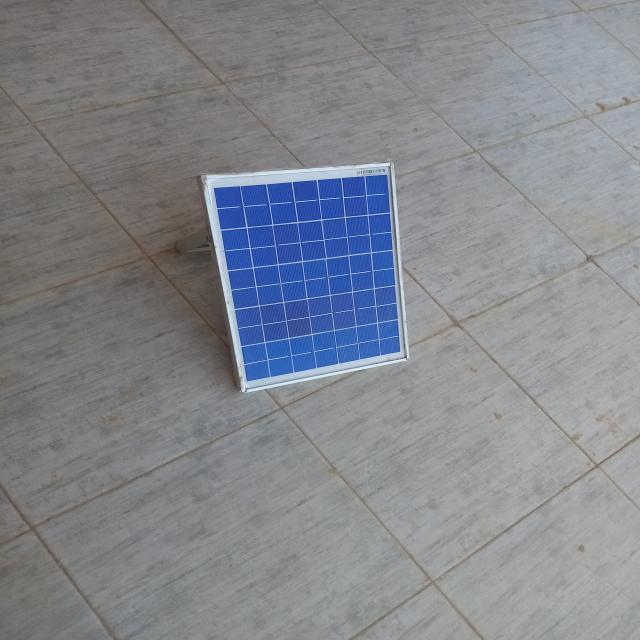no faulty: (205, 169, 408, 388)
